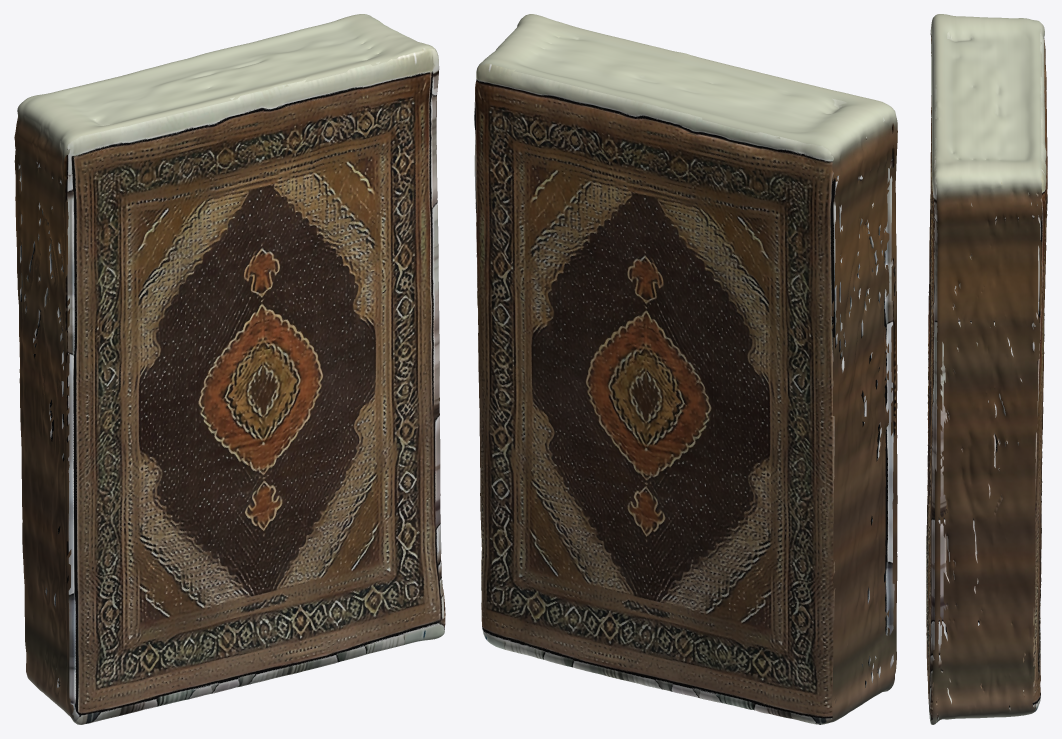
Rendered from kfl-2163.glb.
The picture shows the model from 3 angles, left to right: view 1: azimuth 30°, elevation 25°; view 2: azimuth 150°, elevation 25°; view 3: azimuth 270°, elevation 25°; orthographic projection. The views are drawn at different scales.
Visible parts, largest first — view 1: kfl-2163; view 2: kfl-2163; view 3: kfl-2163.
Boxes of the visible parts, box(x1,y1,x2,y2) form: kfl-2163: box(14, 14, 445, 724); kfl-2163: box(474, 14, 897, 724); kfl-2163: box(926, 14, 1047, 724).
Bounding box in the file's own units: 0.6662 × 0.9962 × 0.1986.
4 materials, 4 textured.
